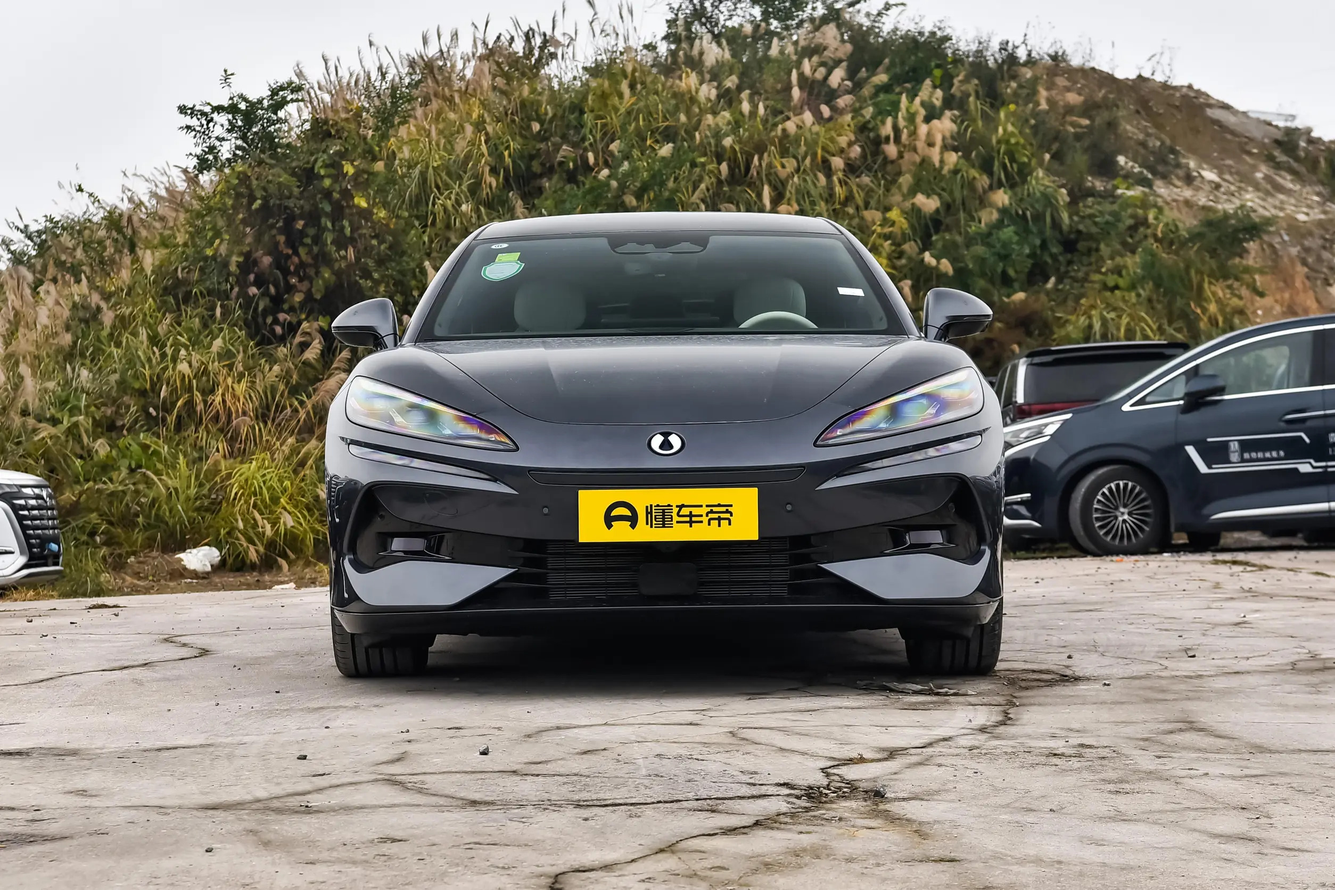DENZA: (652, 434, 681, 453)
